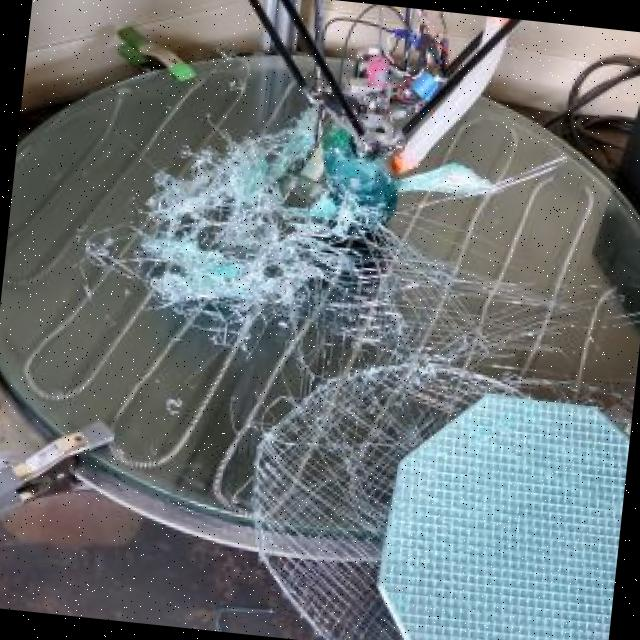spaghetti: (96, 95, 420, 364)
